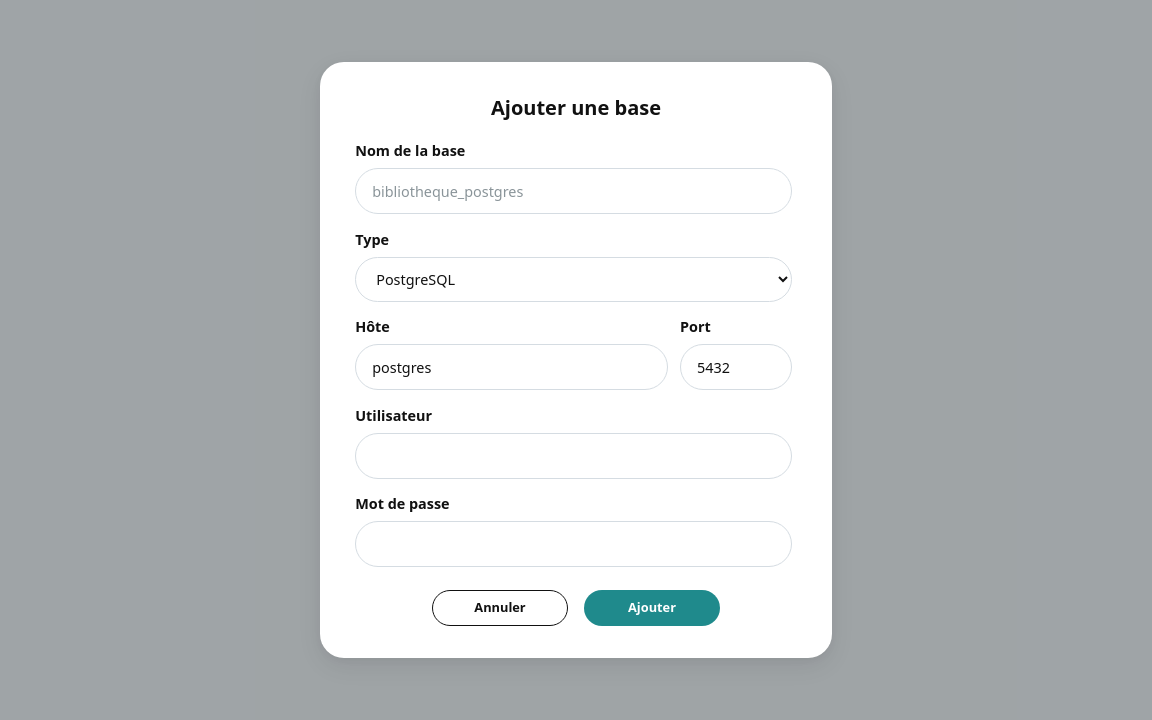
Test: choosing MySQL switches the default host and port
The image size is (1152, 720).
Select "MySQL" in the dropdown at point(574, 279), box [355,257,792,302]
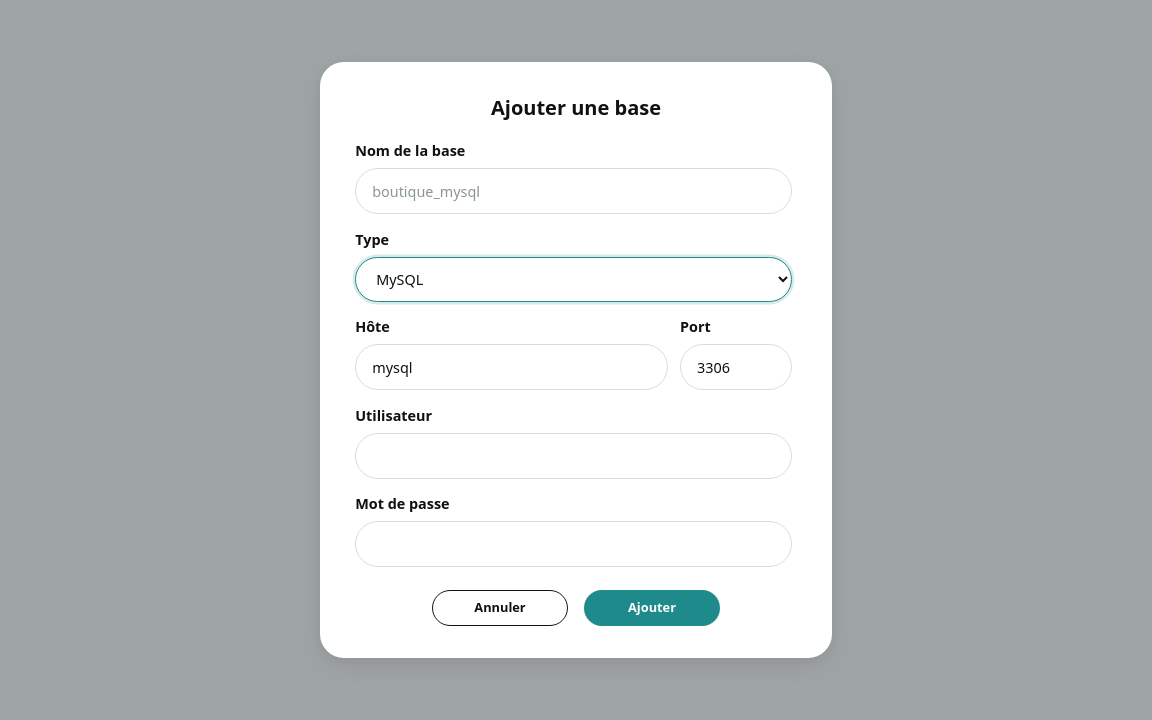
Check: the field labelled "Hôte" holds "mysql", box [355,344,668,390]
Check: the number field labelled "Port" holds "3306", box [680,344,792,390]
